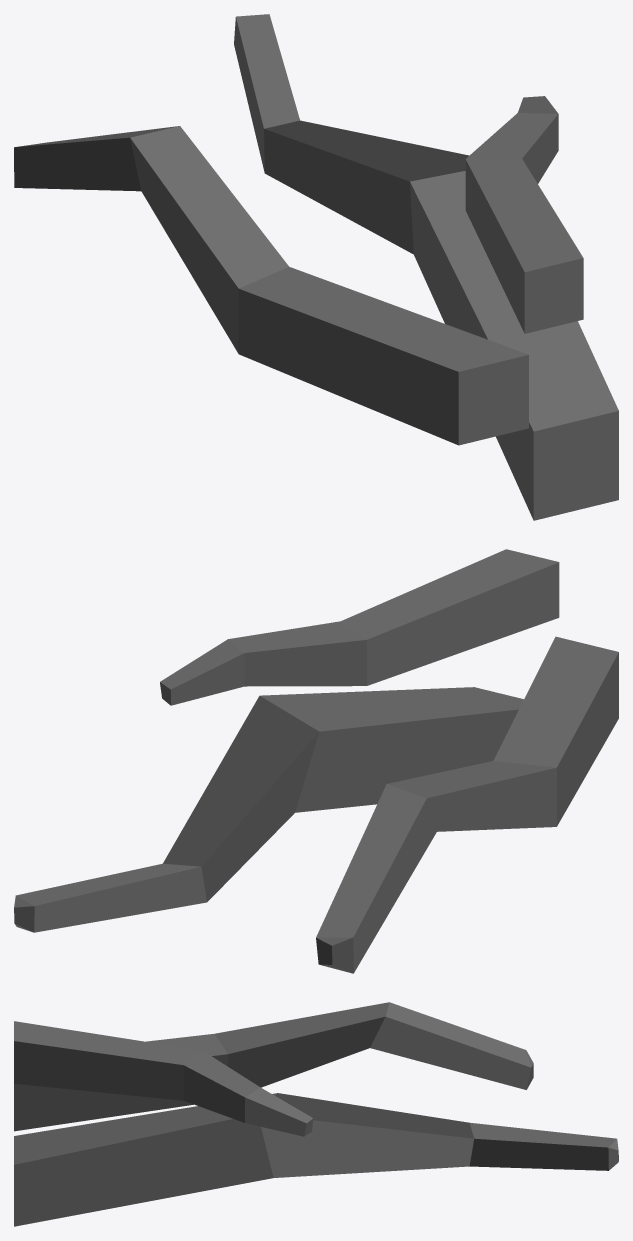
Rendered from winter_night_stick_1.fbx.
The picture shows the model from 3 angles, top to bottom: view 1: azimuth 30°, elevation 25°; view 2: azimuth 150°, elevation 25°; view 3: azimuth 270°, elevation 25°; orthographic projection. The views are drawn at different scales.
Parts seen in each view (by area): view 1: winter_night_stick_1; view 2: winter_night_stick_1; view 3: winter_night_stick_1.
Part boxes in pixels (x1=…): winter_night_stick_1: x1=14, y1=14, x2=618, y2=520; winter_night_stick_1: x1=14, y1=549, x2=618, y2=973; winter_night_stick_1: x1=14, y1=1002, x2=618, y2=1226.
Size of the model in its own units: 63.59 by 40.83 by 129.
